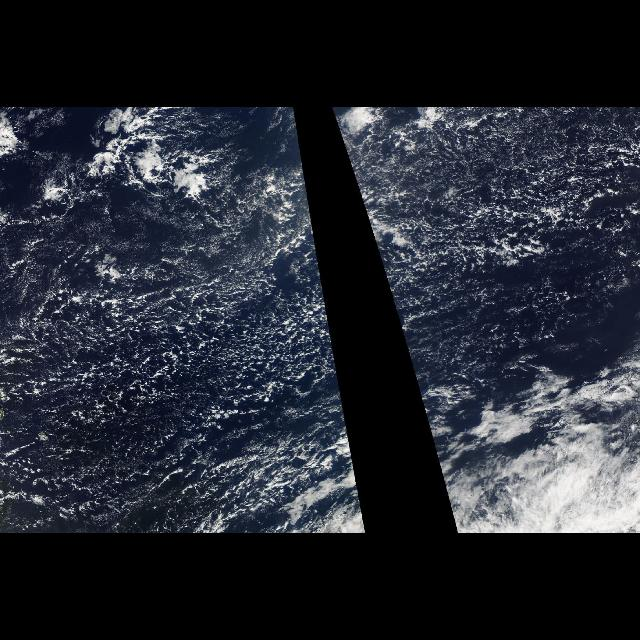Fish: (41, 110, 316, 244), (331, 110, 354, 177)
Gravel: (4, 167, 352, 531), (350, 120, 638, 364)
